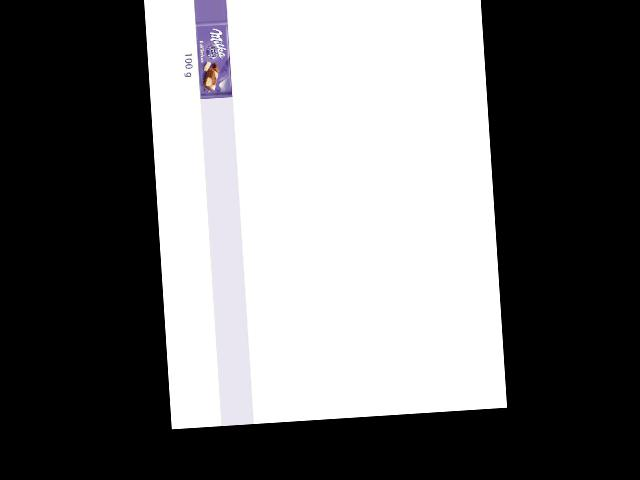chocolate: (194, 20, 232, 99)
